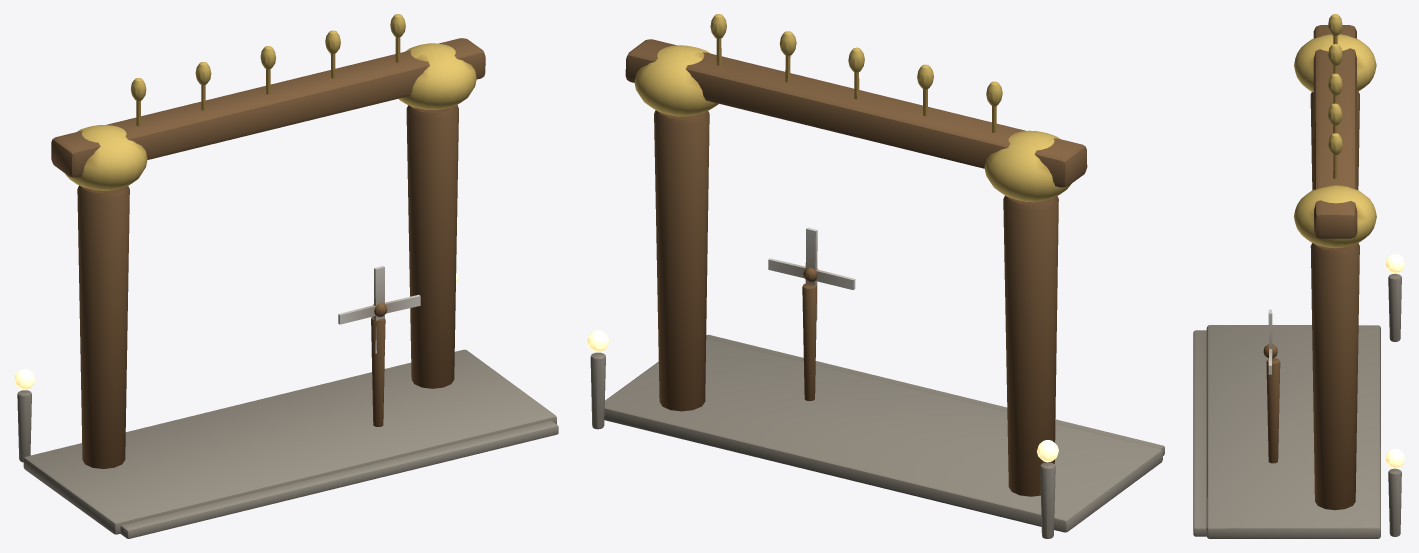
The picture shows the model from 3 angles, left to right: view 1: azimuth 30°, elevation 25°; view 2: azimuth 150°, elevation 25°; view 3: azimuth 270°, elevation 25°; orthographic projection. The views are drawn at different scales.
Parts seen in each view (by area): view 1: gate_a78270f9; view 2: gate_a78270f9; view 3: gate_a78270f9.
Part boxes in pixels (x1,y1,x2,y2): gate_a78270f9: (14,14,558,538); gate_a78270f9: (587,14,1164,538); gate_a78270f9: (1193,14,1404,538).
Size of the model in its own units: 5.82 by 4.85 by 2.54.
